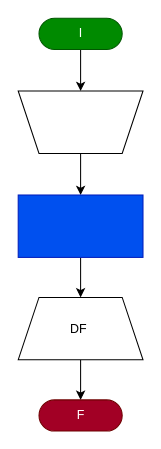
Image size: 161x449. Some labels were removed from this diagram. The centre of each missing label's shape, as x and y in pixels:
"DF = MT * 0.85" belongs at pixel 80 225.
"MT" belongs at pixel 80 121.
